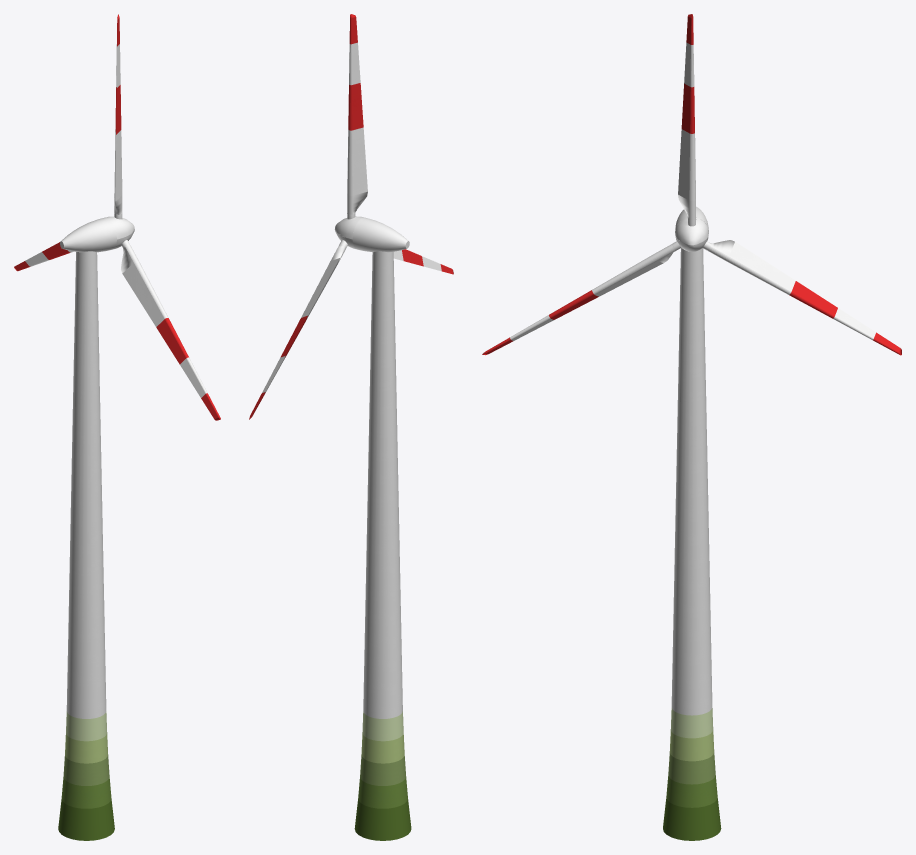
Rendered from e101_135m_reduced.glb.
3 renders of one model, left to right at view 1: azimuth 30°, elevation 25°; view 2: azimuth 150°, elevation 25°; view 3: azimuth 270°, elevation 25°, orthographic. The views are drawn at different scales.
Parts seen in each view (by area): view 1: Mast_135, Rotor, Hub; view 2: Mast_135, Rotor, Hub; view 3: Mast_135, Rotor.
Part boxes in pixels (<box>): Mast_135: <box>58,251,114,840</box>; Rotor: <box>14,14,220,420</box>; Hub: <box>60,217,116,252</box>; Mast_135: <box>354,251,411,840</box>; Rotor: <box>249,14,453,419</box>; Hub: <box>352,217,409,252</box>; Mast_135: <box>663,248,721,840</box>; Rotor: <box>482,14,901,355</box>.
Bounding box in the file's own units: 17.24 × 184 × 84.43.
Materials: 8 (7 with a texture image).
